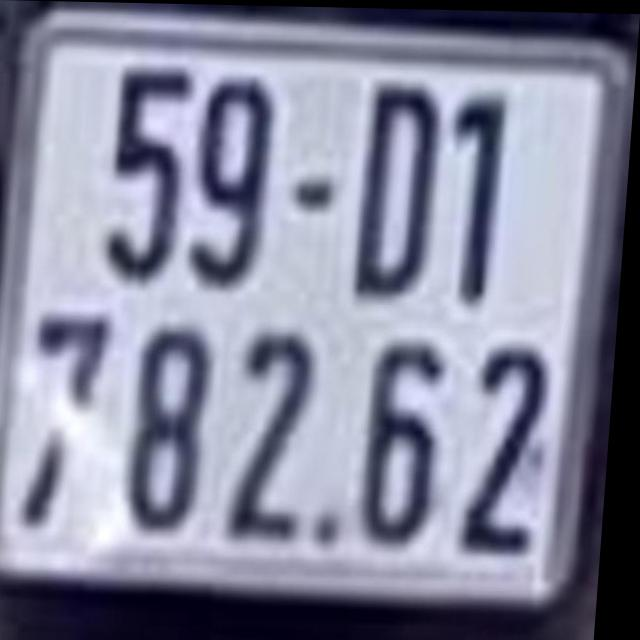1: (450, 87, 512, 297)
2: (235, 326, 319, 536), (471, 339, 549, 553)
5: (110, 68, 188, 280)
6: (363, 333, 458, 540)
7: (22, 300, 118, 537)
8: (133, 322, 214, 536)
9: (198, 75, 270, 287)
D: (361, 75, 447, 299)
